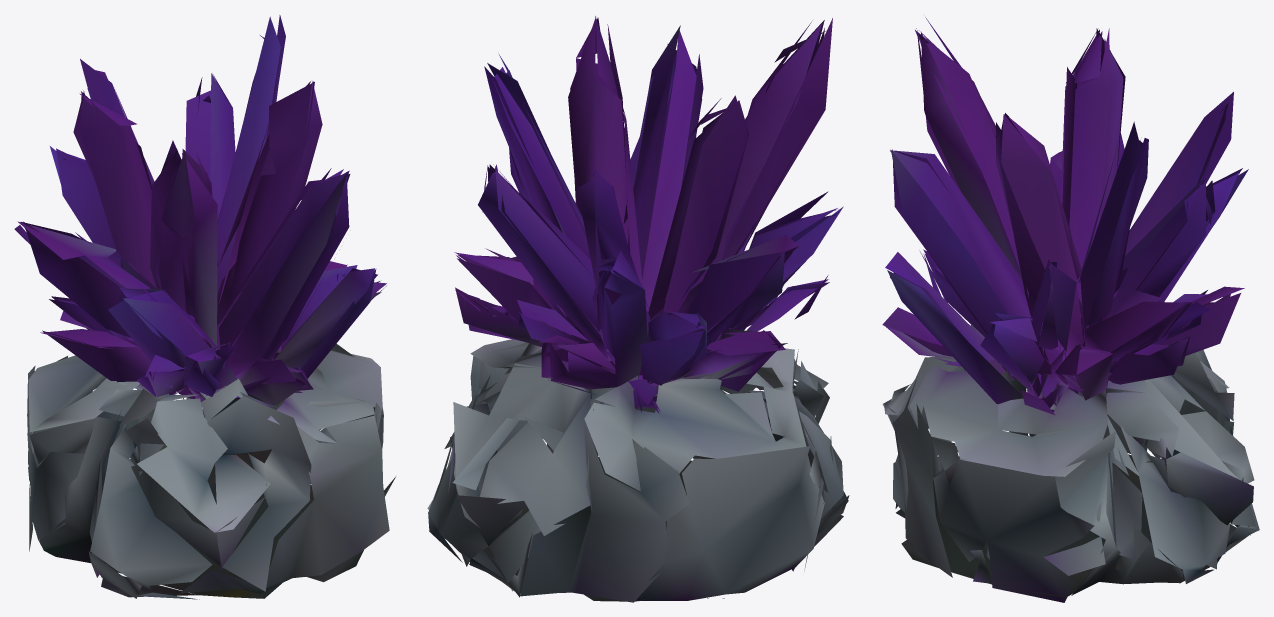
The model's file is crystal.glb.
3 renders of one model, left to right at view 1: azimuth 30°, elevation 25°; view 2: azimuth 150°, elevation 25°; view 3: azimuth 270°, elevation 25°, orthographic. The views are drawn at different scales.
Visible parts, largest first — view 1: geometry_0; view 2: geometry_0; view 3: geometry_0.
Part boxes in pixels (x1=…): geometry_0: x1=14, y1=15, x2=395, y2=599; geometry_0: x1=427, y1=16, x2=849, y2=602; geometry_0: x1=882, y1=17, x2=1259, y2=602.
Bounding box in the file's own units: 23.31 × 30.85 × 22.59.
